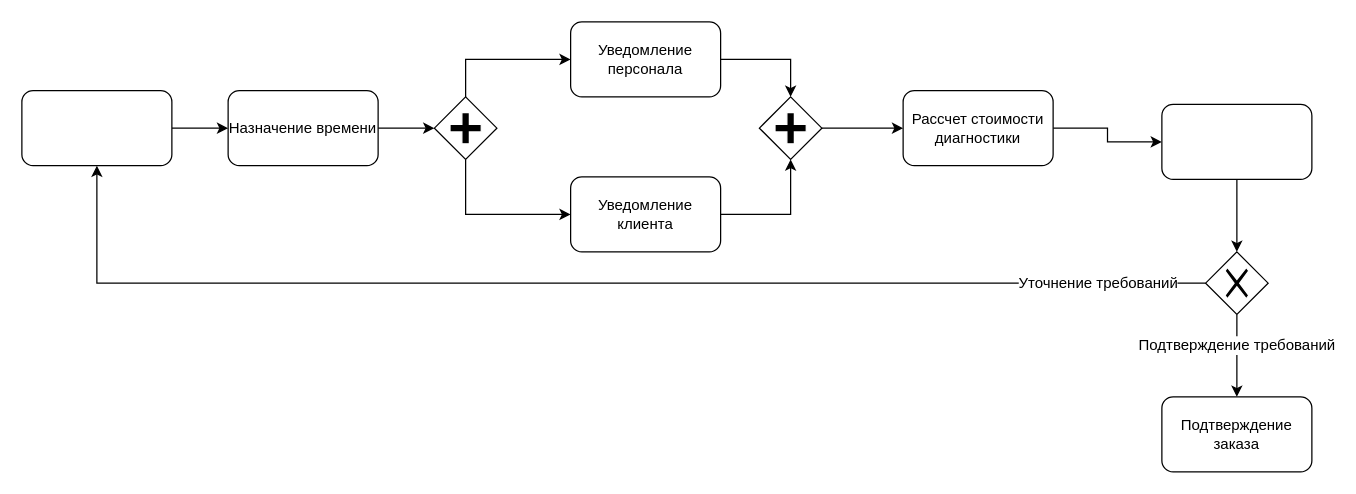
The diagram is 1356 pixels wide and 494 high, and some of its shapes have lost their labels. The centre of each missing label's shape, as x and y in pixels:
"Получение требований" belongs at (96,127).
"Согласование с клиентом" belongs at (1236,141).
